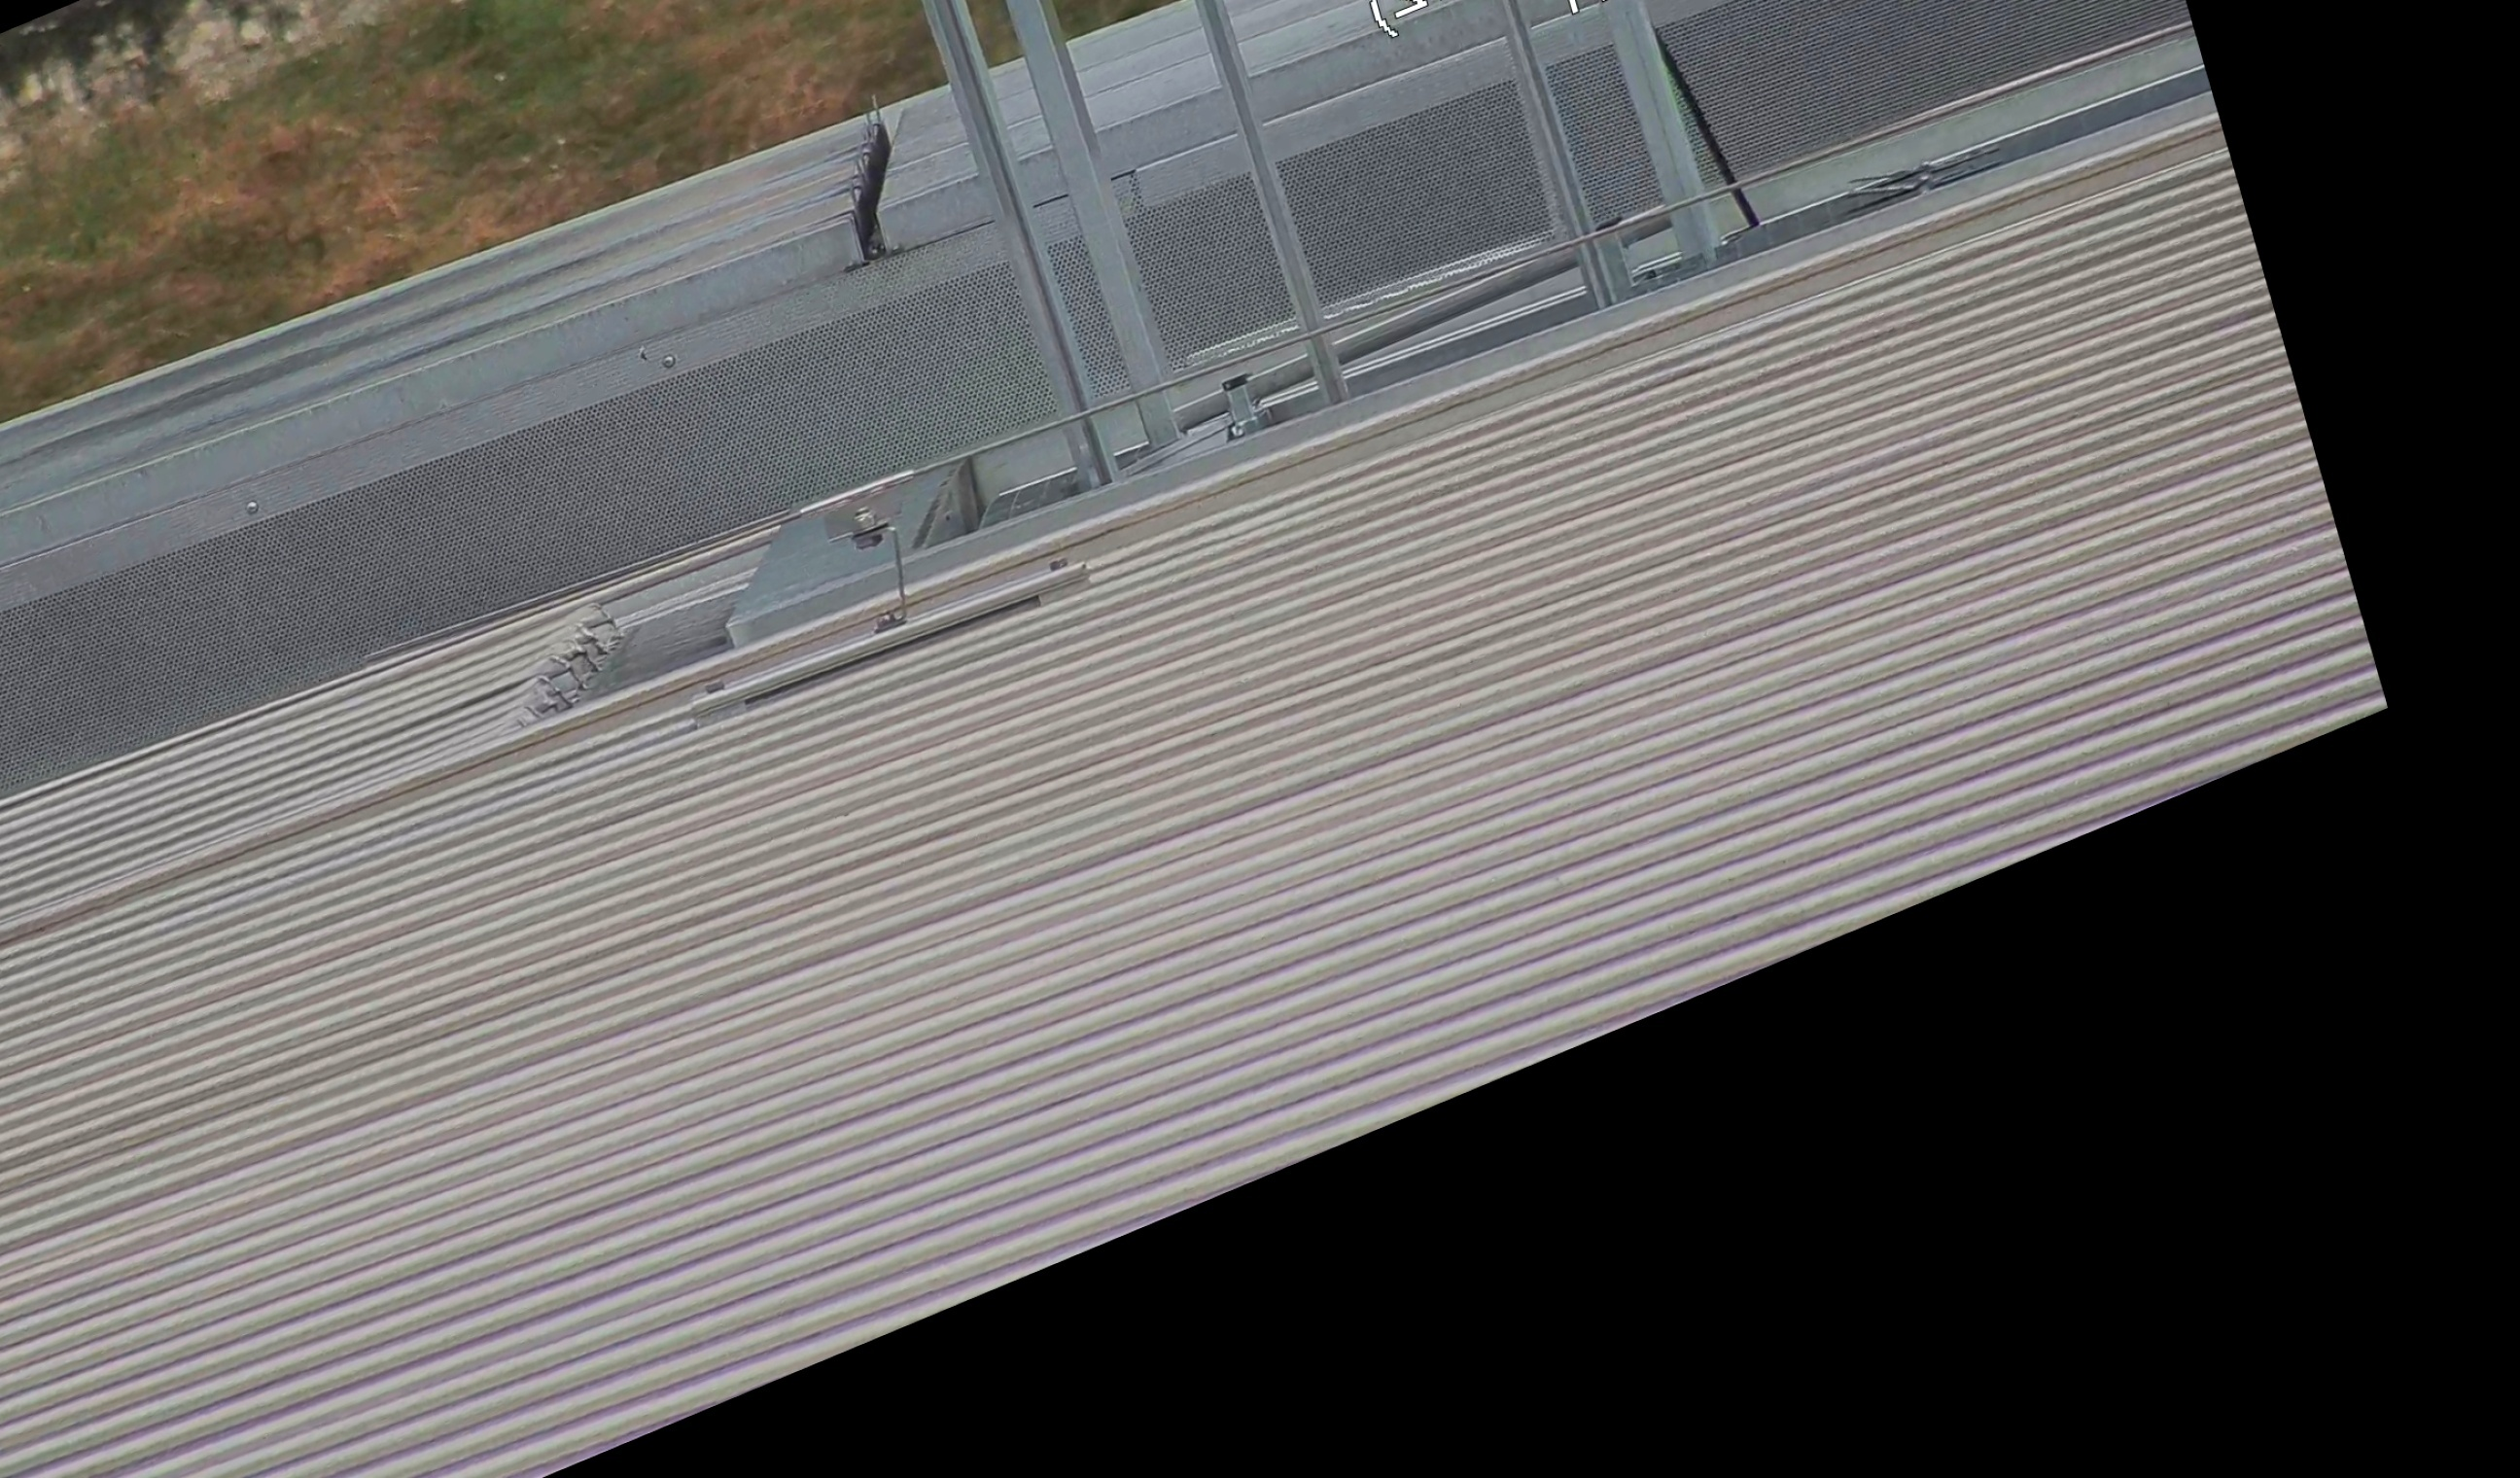Other: (804, 86, 950, 280)
